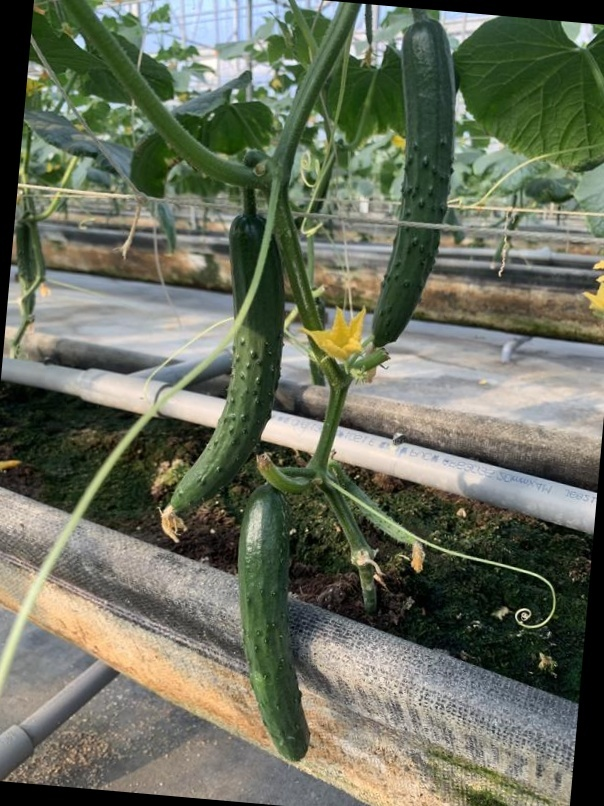mature: (166, 210, 284, 515), (372, 18, 460, 351), (232, 485, 312, 761)
